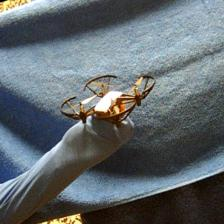drone: (58, 73, 156, 128)
